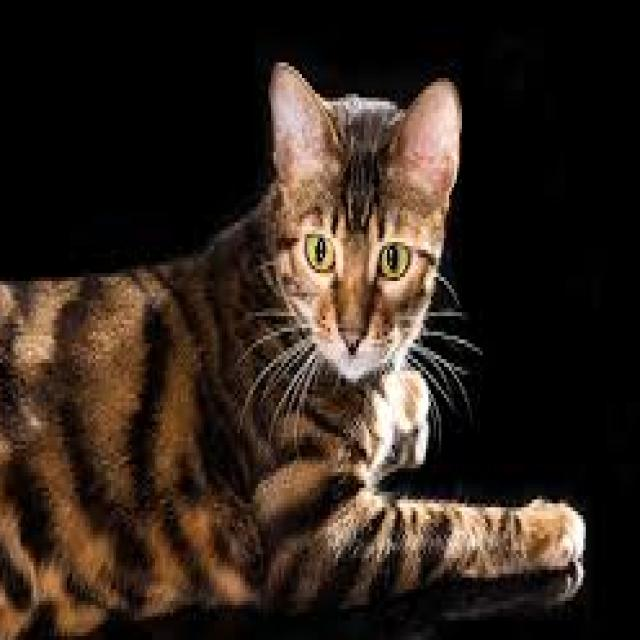Toyger: (0, 50, 588, 640)
